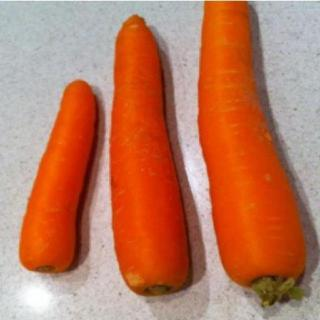carrot: (198, 1, 304, 310), (110, 14, 194, 300), (17, 80, 99, 276)
